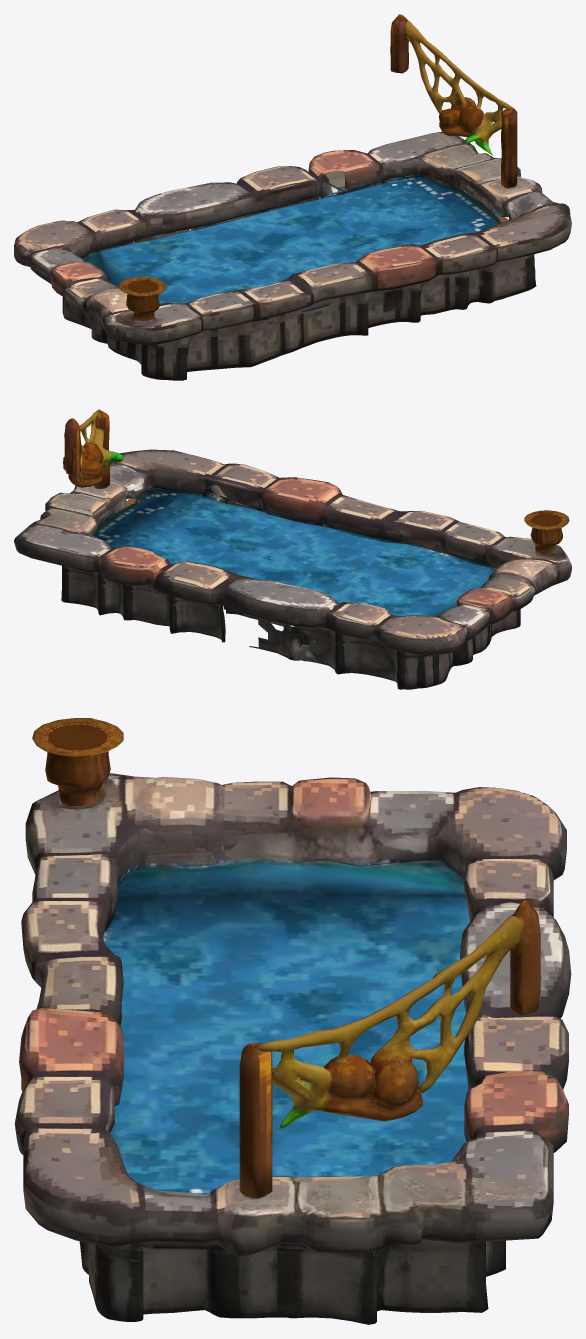
The model's file is pond.glb.
3 views of the same model, one above another, from view 1: azimuth 30°, elevation 25°; view 2: azimuth 150°, elevation 25°; view 3: azimuth 270°, elevation 25° (orthographic). The views are drawn at different scales.
Size of the model in its own units: 1.9 by 0.775 by 0.998.
1 material, 1 textured.
